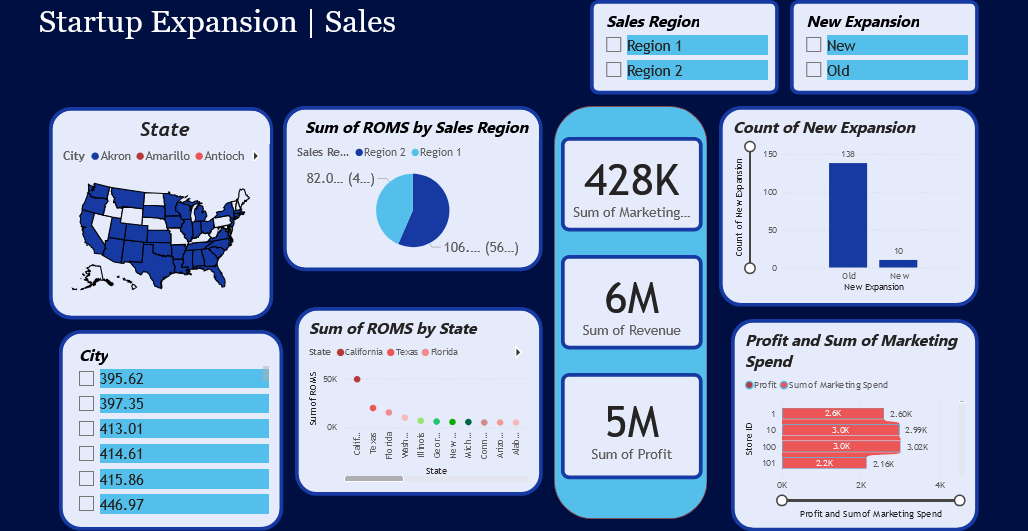

The page's visual inventory and layout, read from the dashboard file:
{"tool":"powerbi","page":{"name":"Overview","canvas":[1280,720],"ordinal":0},"visuals":[{"type":"textbox","box":[0,0,624,64],"z":0},{"type":"shapeMap","title":"State ","fields":{"Category":["Sheet1 (3).State"],"Series":["Sheet1 (3).City"]},"box":[18.6,145.7,304,288],"z":1000},{"type":"pieChart","fields":{"Category":["Sheet1 (3).Sales Region"],"Y":["Sum(Sheet1 (3).ROMS)"]},"box":[336,144,352,224],"z":2000},{"type":"slicer","fields":{"Values":["Sheet1 (3).New Expansion"]},"box":[1024,0,256,128],"z":3000},{"type":"slicer","fields":{"Values":["Sheet1 (3).Sales Region"]},"box":[752,0,256,128],"z":4000},{"type":"columnChart","title":"Count of New Expansion","fields":{"Y":["CountNonNull(Sheet1 (3).New Expansion)"],"Category":["Sheet1 (3).New Expansion"]},"box":[928,144,352,272],"z":5000},{"type":"barChart","title":"Profit and Sum of Marketing Spend ","fields":{"Category":["Sheet1 (3).Store ID"],"Y":["CountNonNull(Sheet1 (3).Profit)","Sum(Sheet1 (3).Marketing Spend)"]},"box":[944,432,336,288],"z":6000},{"type":"slicer","fields":{"Values":["Sheet1 (3).ROMS"]},"box":[32,448,304,272],"z":7000},{"type":"lineChart","title":"Sum of ROMS by State","fields":{"Category":["Sheet1 (3).State"],"Y":["Sum(Sheet1 (3).ROMS)"],"Series":["Sheet1 (3).State"]},"box":[352,416,336,256],"z":8000},{"type":"shape","box":[704,144,208,560],"z":9000},{"type":"card","fields":{"Values":["Sum(Sheet1 (3).Marketing Spend)"]},"box":[712.9,185.7,192,128],"z":10000},{"type":"card","fields":{"Values":["Sum(Sheet1 (3).Revenue)"]},"box":[712.9,345.7,192,128],"z":11000},{"type":"card","fields":{"Values":["Sum(Sheet1 (3).Profit)"]},"box":[712.9,505.7,192,144],"z":12000}]}

Visuals, with their boxes in screenshot pixels (x1, y1, x2, y2):
textbox: box(43, 0, 496, 46)
"State " shapeMap: box(56, 106, 277, 315)
pieChart - Sheet1 (3).Sales Region x Sum(Sheet1 (3).ROMS): box(287, 105, 542, 267)
slicer - Sheet1 (3).New Expansion: box(786, 0, 972, 93)
slicer - Sheet1 (3).Sales Region: box(589, 0, 775, 93)
"Count of New Expansion" columnChart: box(717, 105, 972, 302)
"Profit and Sum of Marketing Spend " barChart: box(728, 314, 972, 523)
slicer - Sheet1 (3).ROMS: box(66, 325, 287, 523)
"Sum of ROMS by State" lineChart: box(298, 302, 542, 488)
shape: box(554, 105, 705, 511)
card - Sum(Sheet1 (3).Marketing Spend): box(560, 135, 700, 228)
card - Sum(Sheet1 (3).Revenue): box(560, 251, 700, 344)
card - Sum(Sheet1 (3).Profit): box(560, 367, 700, 472)
